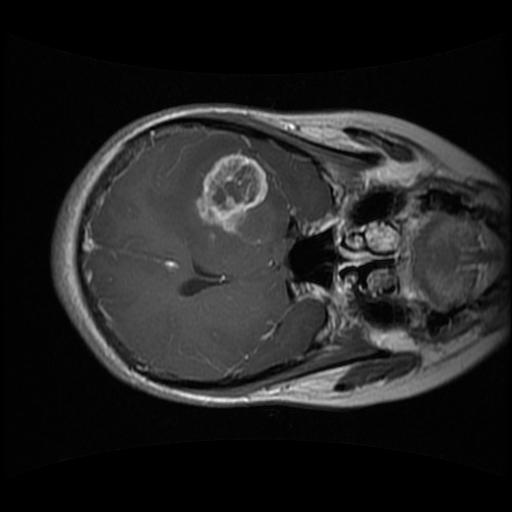glioma: (187, 144, 273, 246)
